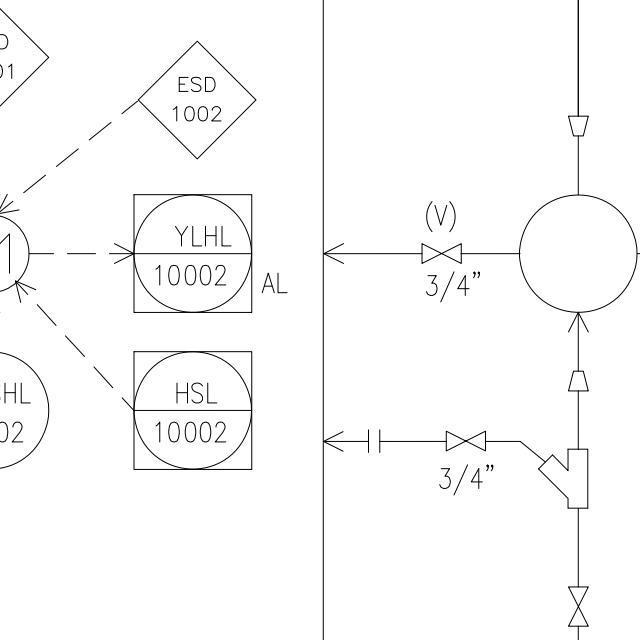GV: (565, 579, 592, 631), (440, 426, 489, 454), (415, 240, 466, 265)
SP: (565, 107, 594, 142), (565, 365, 591, 397)
